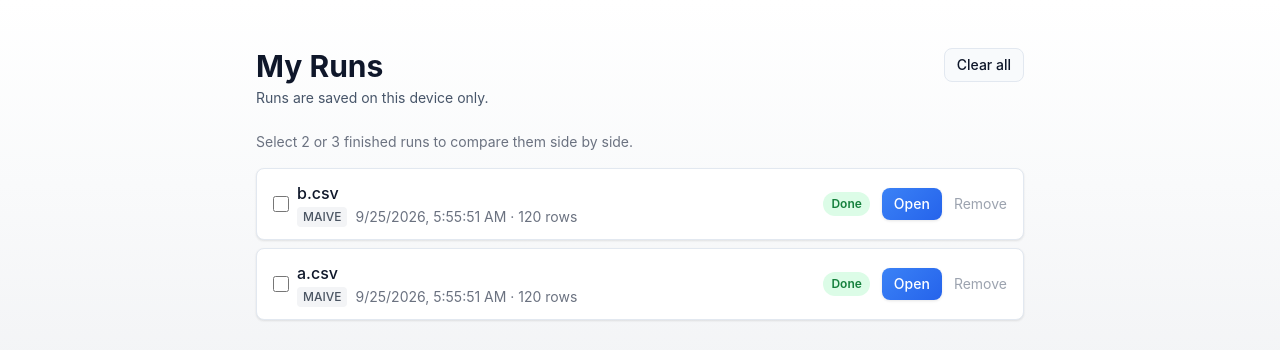
RunsPage › comparison selection › needs two runs before comparing is allowed
Click the checkbox named "Select a.csv for comparison" at [281, 284], box x1=273 y1=276 x2=289 y2=292
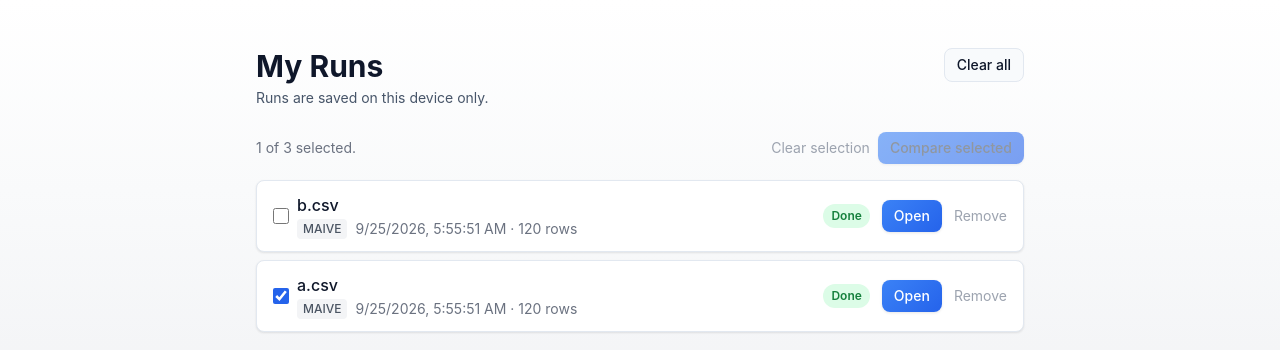
Now the button "Compare selected" is disabled, box x1=878 y1=132 x2=1024 y2=164
Click the checkbox named "Select b.csv for comparison" at [281, 216], box x1=273 y1=208 x2=289 y2=224
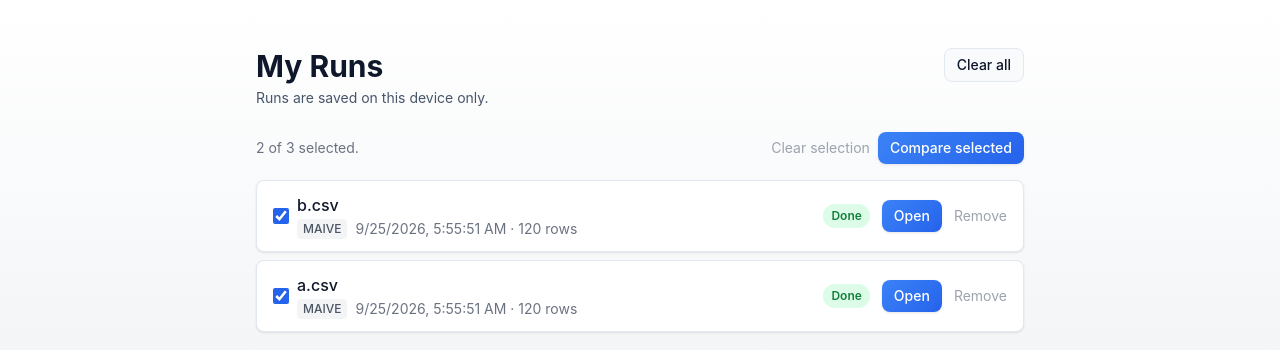
Now the button "Compare selected" is enabled, box x1=878 y1=132 x2=1024 y2=164
